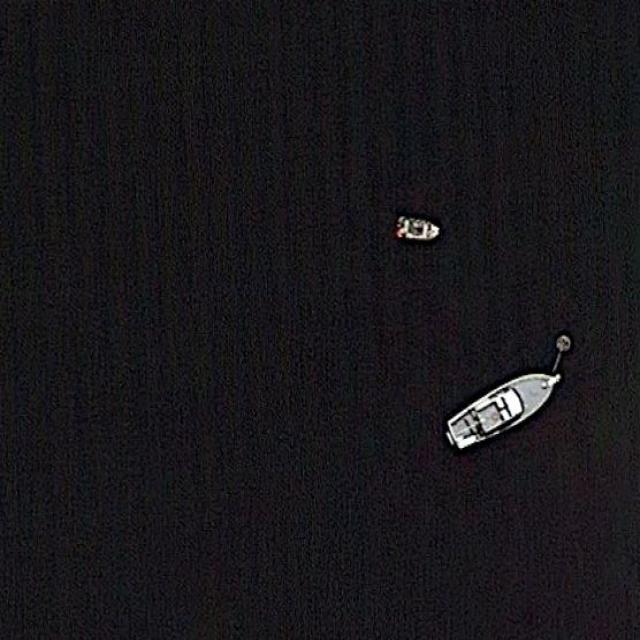ship: (446, 370, 562, 450), (392, 215, 440, 243)
